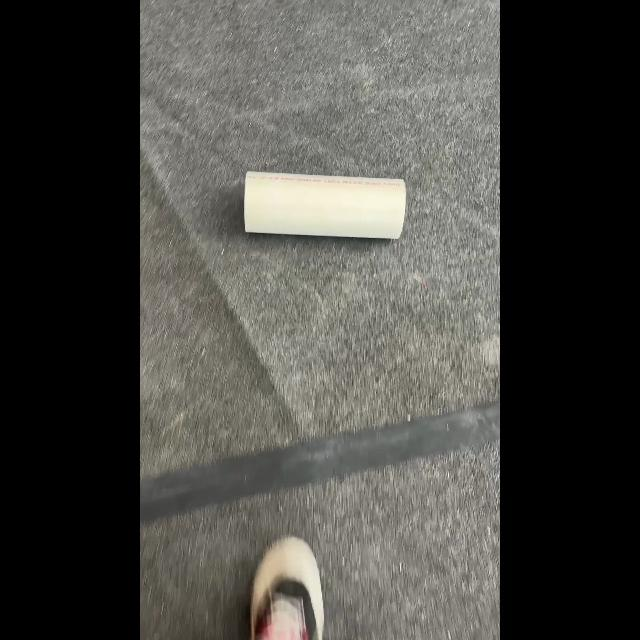CORAL: (242, 170, 406, 240)
